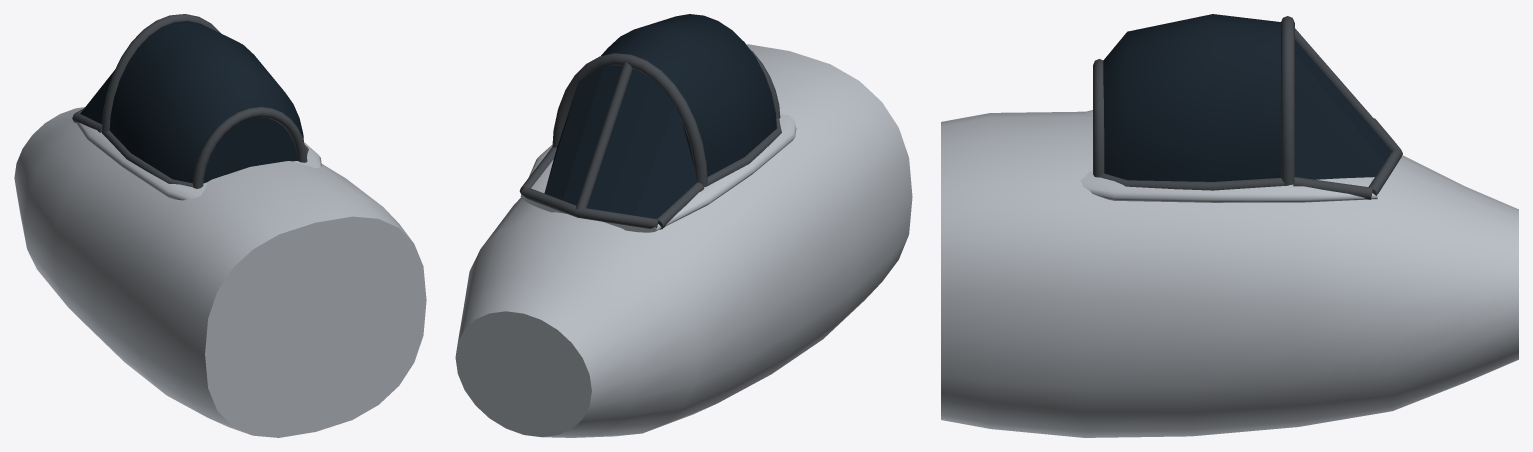
Rendered from cockpit_a10.glb.
3 renders of one model, left to right at view 1: azimuth 30°, elevation 25°; view 2: azimuth 150°, elevation 25°; view 3: azimuth 270°, elevation 25°, orthographic. The views are drawn at different scales.
Parts seen in each view (by area): view 1: Cockpit_Body, Canopy_Glass, Canopy_Frame, Canopy_Sill, Windscreen_Glass; view 2: Cockpit_Body, Windscreen_Glass, Canopy_Glass, Canopy_Frame, Canopy_Sill; view 3: Cockpit_Body, Canopy_Glass, Windscreen_Glass, Canopy_Frame, Canopy_Sill.
Boxes of the visible parts, bbox=[...] form: Cockpit_Body: bbox=[14, 107, 426, 437]; Canopy_Glass: bbox=[109, 21, 303, 183]; Canopy_Frame: bbox=[72, 14, 308, 188]; Canopy_Sill: bbox=[75, 122, 321, 200]; Windscreen_Glass: bbox=[80, 70, 114, 124]; Cockpit_Body: bbox=[455, 44, 912, 437]; Windscreen_Glass: bbox=[544, 65, 697, 218]; Canopy_Glass: bbox=[601, 14, 776, 176]; Canopy_Frame: bbox=[519, 49, 781, 229]; Canopy_Sill: bbox=[520, 113, 796, 232]; Cockpit_Body: bbox=[941, 111, 1518, 437]; Canopy_Glass: bbox=[1103, 14, 1280, 181]; Windscreen_Glass: bbox=[1295, 40, 1391, 179]; Canopy_Frame: bbox=[1093, 16, 1402, 199]; Canopy_Sill: bbox=[1080, 110, 1377, 202].
Size of the model in its own units: 1.56 by 2.03 by 2.7.
